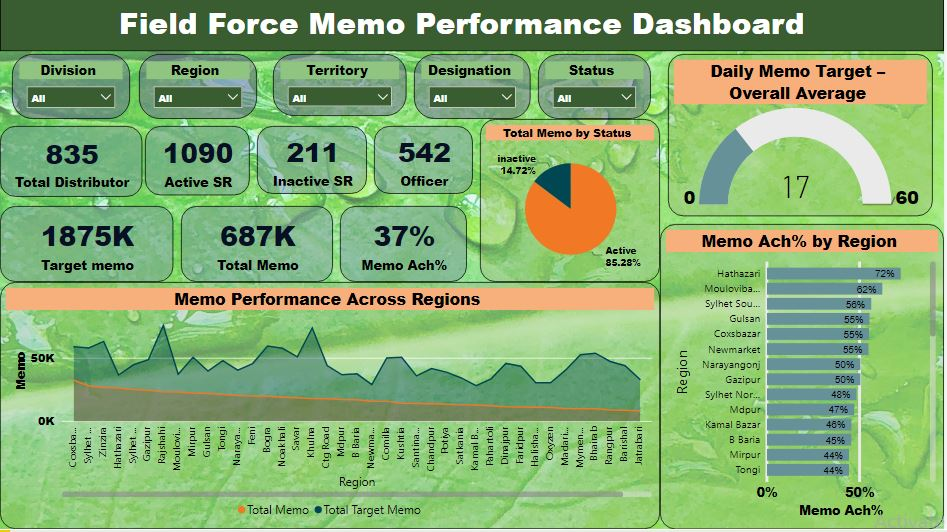

The dashboard page shown, as its layout file describes it:
{"tool":"powerbi","page":{"name":"Dasboard","canvas":[1280,720],"ordinal":0},"visuals":[{"type":"card","fields":{"Values":["Memo.Total Distributor"]},"box":[0,173.6,192.5,96.3],"z":0},{"type":"pieChart","fields":{"Y":["Sum(Day wise memo Report.Total Memo)"],"Category":["Day wise memo Report.Status"]},"box":[650.8,164.1,244.1,221],"z":18},{"type":"slicer","title":"Territory","fields":{"Values":["Day wise memo Report.Territory"]},"box":[370,76.3,181.4,83.5],"z":1000},{"type":"barChart","title":"Memo Ach%  by Region","fields":{"Category":["Day wise memo Report.Region"],"Y":["Day wise memo Report.Memo Ach%"]},"box":[894.9,306.4,385.1,413.6],"z":3000},{"type":"slicer","title":"Region","fields":{"Values":["Day wise memo Report.Region"]},"box":[188.6,76.3,159.8,87.8],"z":4000},{"type":"card","fields":{"Values":["Day wise memo Report.Ach%"]},"box":[461,282,172.2,103.1],"z":5000},{"type":"card","title":"Total Memo","fields":{"Values":["Sum(Memo.Total Target memo for the Month)"]},"box":[0,282,234.6,103.1],"z":6000},{"type":"card","fields":{"Values":["Sum(Memo.Total Memo)"]},"box":[245.4,282,206.1,103.1],"z":7000},{"type":"areaChart","title":"Memo Performance Across Regions","fields":{"Category":["Day wise memo Report.Region"],"Y":["Sum(Day wise memo Report.Total Memo)","Day wise memo Report.Total Target Memo"]},"box":[0,385.1,894.9,334.9],"z":8000},{"type":"slicer","title":"Division","fields":{"Values":["Memo.Division"]},"box":[15.8,76.3,159.8,87.8],"z":9000},{"type":"card","fields":{"Values":["Memo.Active SR"]},"box":[196.6,173.6,142.4,93.6],"z":10000},{"type":"card","fields":{"Values":["Memo.Total Inactive SR"]},"box":[348.5,173.6,149.2,92.2],"z":11000},{"type":"card","fields":{"Values":["Memo.Officer"]},"box":[507.1,173.6,134.2,92.2],"z":12000},{"type":"gauge","title":"Daily Memo Target – Overall Average","fields":{"TargetValue":["Day wise memo Report.PPDM Tatget Memo"],"Y":["Day wise memo Report.PPDM avg. memo"],"MaxValue":["Day wise memo Report.PPDM Tatget Memo"]},"box":[905.8,75.9,359.3,219.7],"z":13000},{"type":"slicer","title":"Designation","fields":{"Values":["Memo.Designation"]},"box":[561.5,76.3,158.4,87.8],"z":14000},{"type":"slicer","title":"Status","fields":{"Values":["Memo.Status"]},"box":[730,76.3,152.6,87.8],"z":15000},{"type":"basicShape","box":[0,0,1280,72],"z":15500},{"type":"textbox","box":[0,0,1265.6,72],"z":16000}]}

Visuals, with their boxes in screenshot pixels (x1, y1, x2, y2), scaled from the page's 1280x720 canvas onto the 947x532 screenshot:
card - Memo.Total Distributor: <bbox>0, 128, 142, 199</bbox>
pieChart - Sum(Day wise memo Report.Total Memo) x Day wise memo Report.Status: <bbox>481, 121, 662, 285</bbox>
"Territory" slicer: <bbox>274, 56, 408, 118</bbox>
"Memo Ach%  by Region" barChart: <bbox>662, 226, 946, 531</bbox>
"Region" slicer: <bbox>140, 56, 258, 121</bbox>
card - Day wise memo Report.Ach%: <bbox>341, 208, 468, 285</bbox>
"Total Memo" card: <bbox>0, 208, 174, 285</bbox>
card - Sum(Memo.Total Memo): <bbox>182, 208, 334, 285</bbox>
"Memo Performance Across Regions" areaChart: <bbox>0, 285, 662, 531</bbox>
"Division" slicer: <bbox>12, 56, 130, 121</bbox>
card - Memo.Active SR: <bbox>145, 128, 251, 197</bbox>
card - Memo.Total Inactive SR: <bbox>258, 128, 368, 196</bbox>
card - Memo.Officer: <bbox>375, 128, 474, 196</bbox>
"Daily Memo Target – Overall Average" gauge: <bbox>670, 56, 936, 218</bbox>
"Designation" slicer: <bbox>415, 56, 533, 121</bbox>
"Status" slicer: <bbox>540, 56, 653, 121</bbox>
basicShape: <bbox>0, 0, 946, 53</bbox>
textbox: <bbox>0, 0, 936, 53</bbox>
